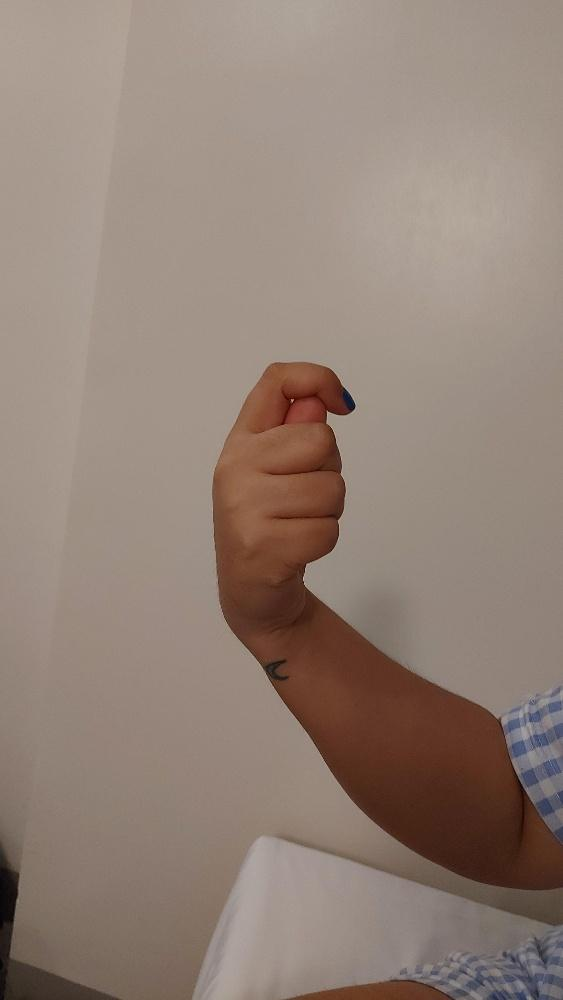t: (210, 360, 357, 632)
